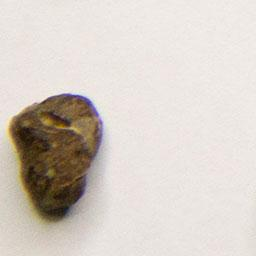defect: (5, 90, 108, 224)
